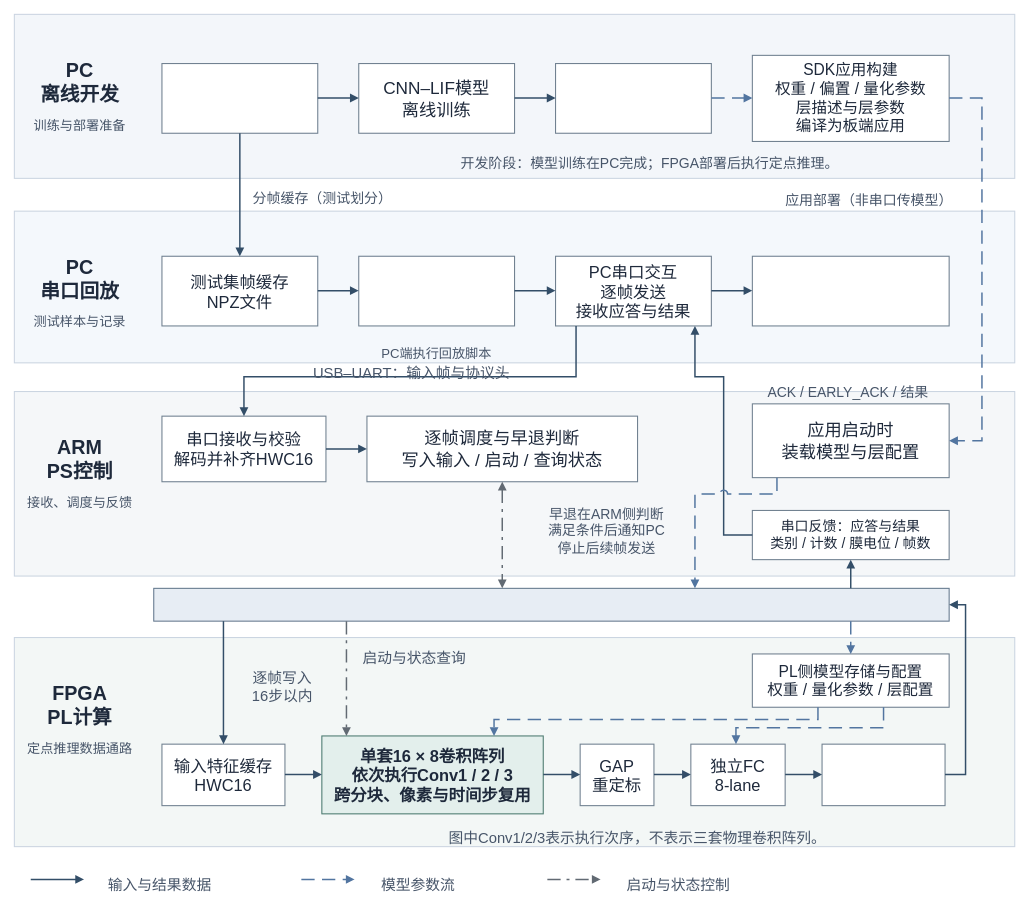
The diagram is 1030 pixels wide and 909 high, and some of its shapes have lost their labels. Each missing label, with the centre of its shape:
PS–PL：AXI-Lite | 输入与参数写入、启动控制、状态与结果读取: (551,604)
定点量化 参数导出与打包: (633,98)
数据集与事件分帧 DVS128Gesture 16 × 64 × 64 × 2: (239,98)
独立LIF 状态更新与计数: (883,774)
结果核对与日志保存 预测类别 / 已处理帧数 准确率等统计: (850,290)
输入编码与组包 DENSE / Zero-RLE GST4协议与CRC: (436,290)
